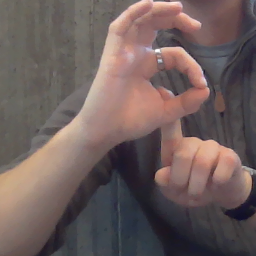Q: (80, 1, 244, 209)
